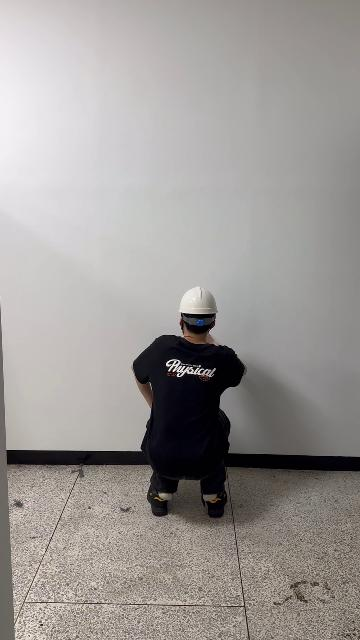helmet_worn: (178, 285, 219, 316)
shoe_worn: (147, 486, 171, 517), (202, 489, 227, 517)
vest_not_worn: (152, 341, 227, 477)
